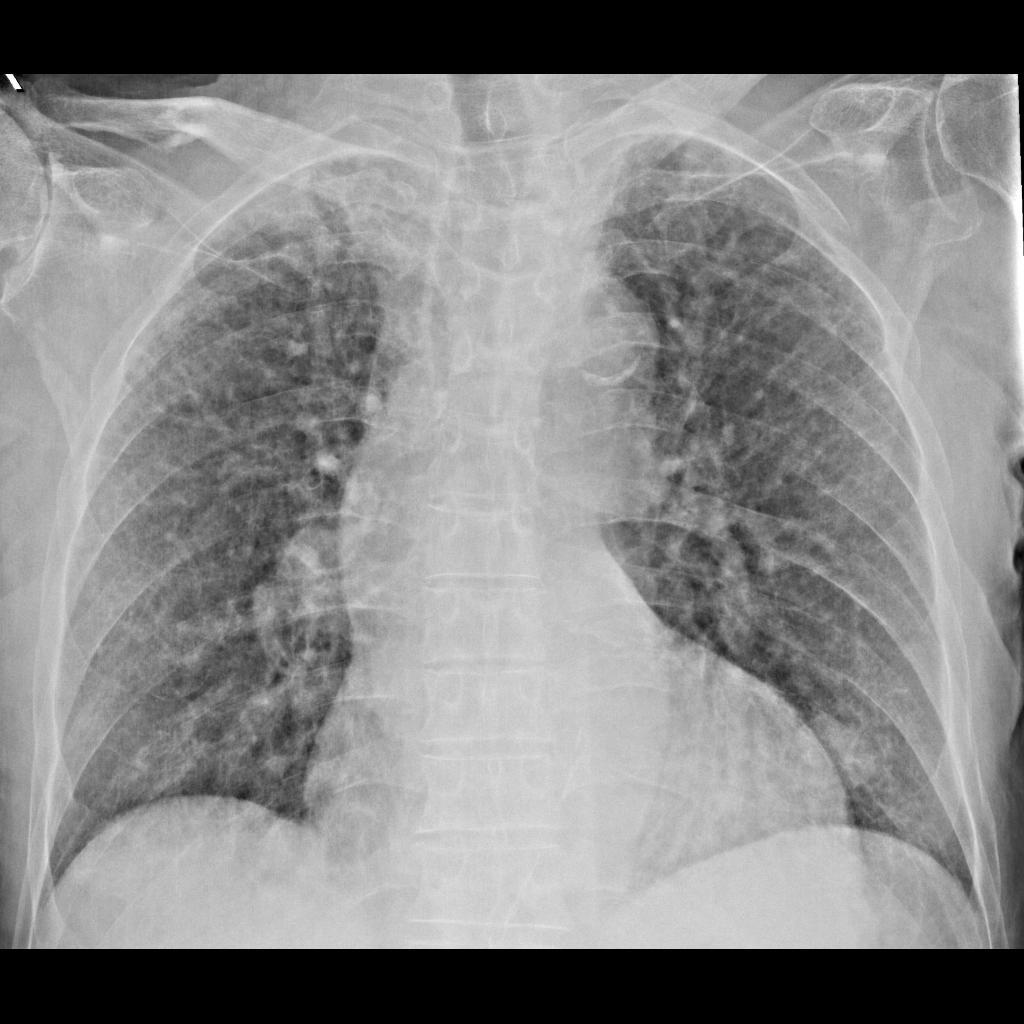Nodule: (782, 698, 894, 805)
